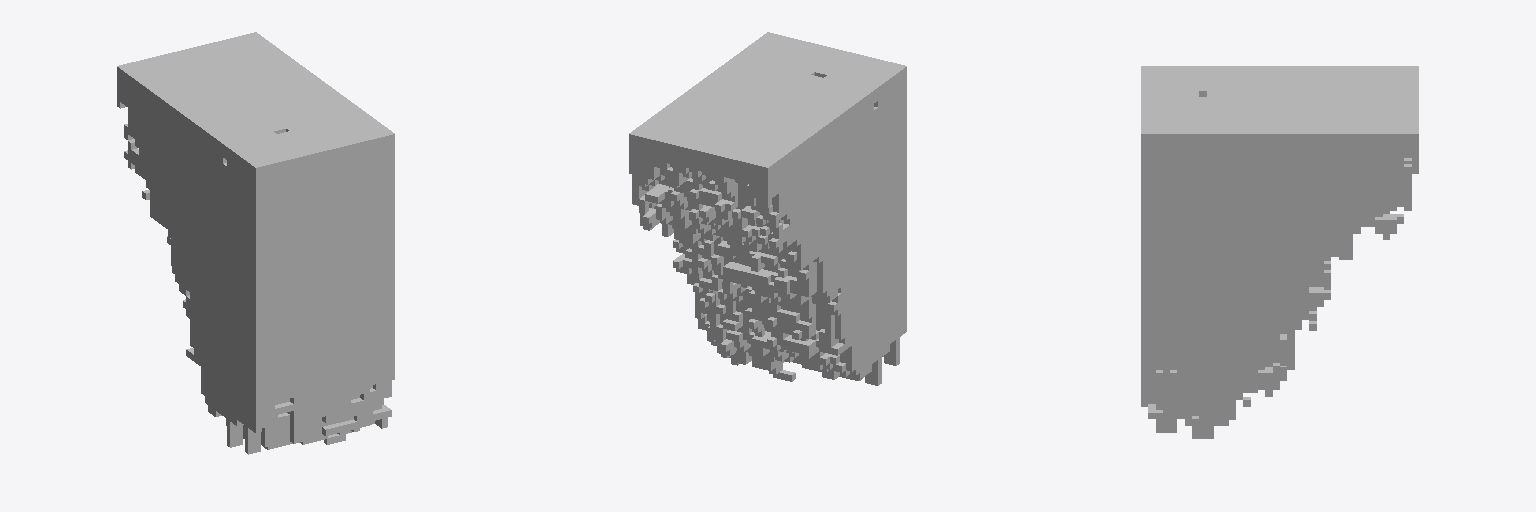
Rendered from Stone Decke.obj.
3 renders of one model, left to right at view 1: azimuth 30°, elevation 25°; view 2: azimuth 150°, elevation 25°; view 3: azimuth 270°, elevation 25°, orthographic.
Visible parts, largest first — view 1: object 1; view 2: object 1; view 3: object 1.
Boxes of the visible parts, box(x1,y1,x2,y2) form: object 1: box(117, 32, 394, 454); object 1: box(629, 32, 906, 385); object 1: box(1141, 66, 1418, 438).
Bounding box in the file's own units: 2.2 × 4.7 × 3.8.